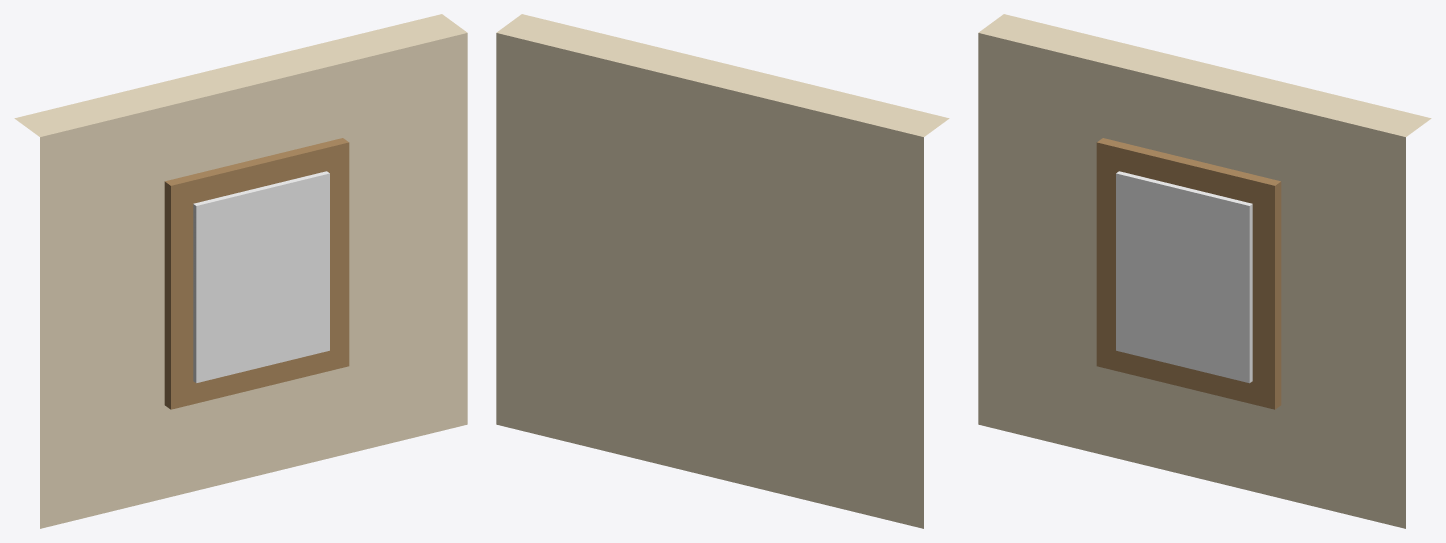
File: dec_house_cream_window_lit.glb
The picture shows the model from 3 angles, left to right: view 1: azimuth 30°, elevation 25°; view 2: azimuth 150°, elevation 25°; view 3: azimuth 330°, elevation 25°; orthographic projection.
Parts seen in each view (by area): view 1: dec_house_cream_window_lit_mesh; view 2: dec_house_cream_window_lit_mesh; view 3: dec_house_cream_window_lit_mesh.
Boxes of the visible parts, x1,y1,x2,y2 form: dec_house_cream_window_lit_mesh: (14, 14, 467, 528); dec_house_cream_window_lit_mesh: (496, 14, 949, 528); dec_house_cream_window_lit_mesh: (978, 14, 1431, 528).
Size of the model in its own units: 0.48 by 0.42 by 0.068.
2 materials, 1 textured.
